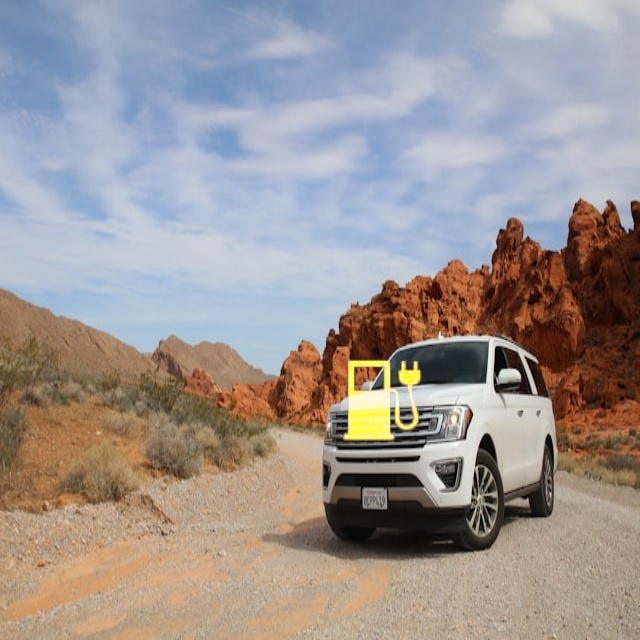symbol: (304, 323, 461, 480)
